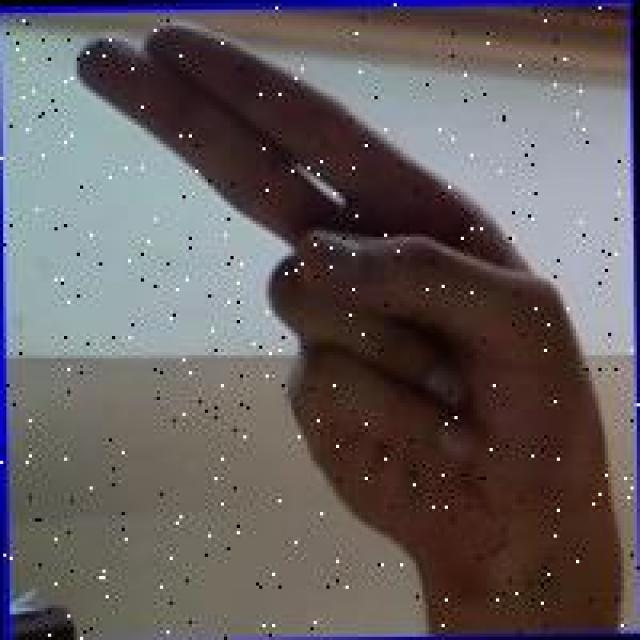H: (74, 14, 627, 636)
